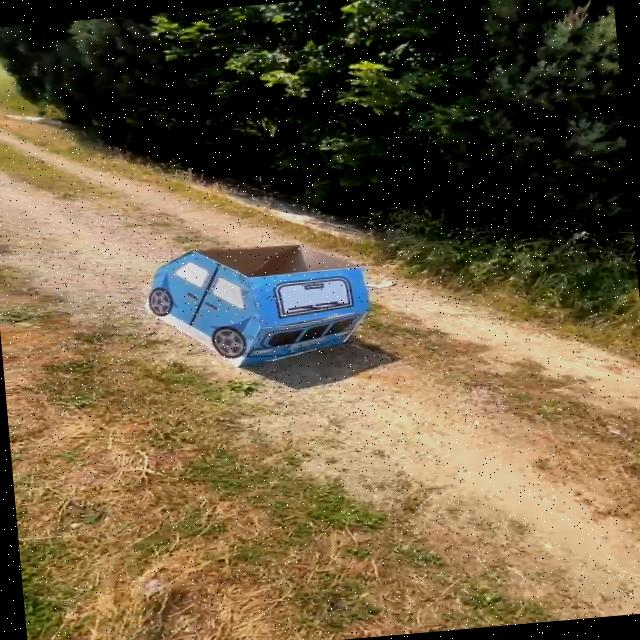blue_car: (116, 218, 389, 395)
